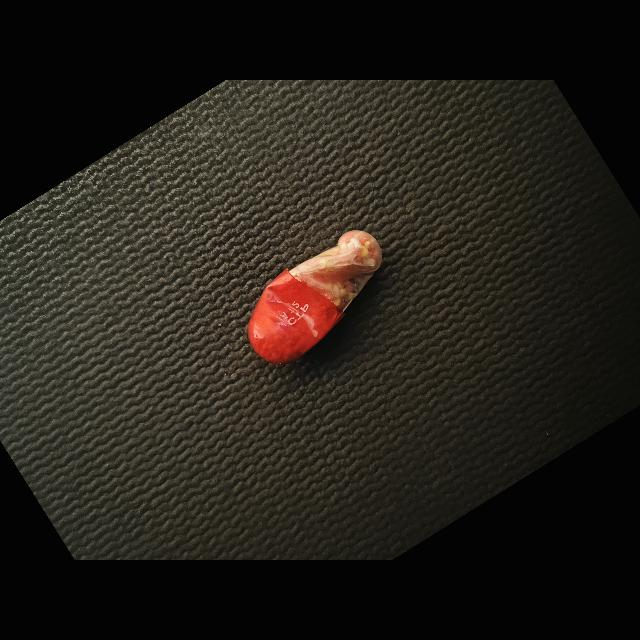Defective Capsule: (248, 230, 382, 363)
